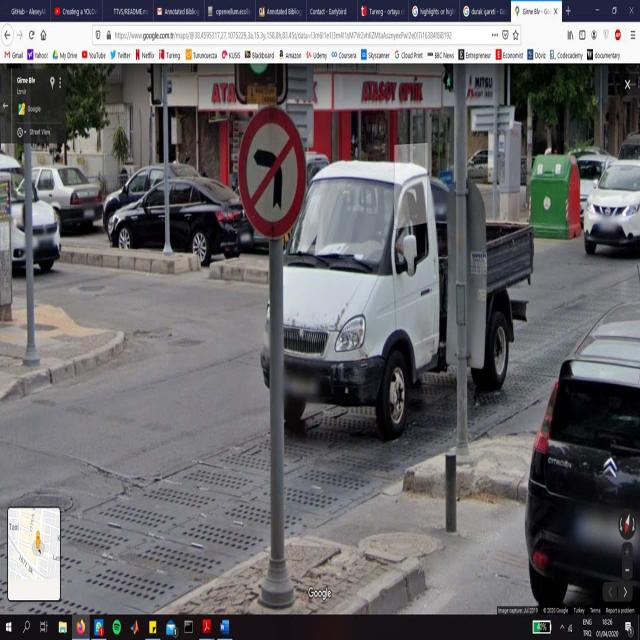soladonulmez: (242, 110, 304, 234)
